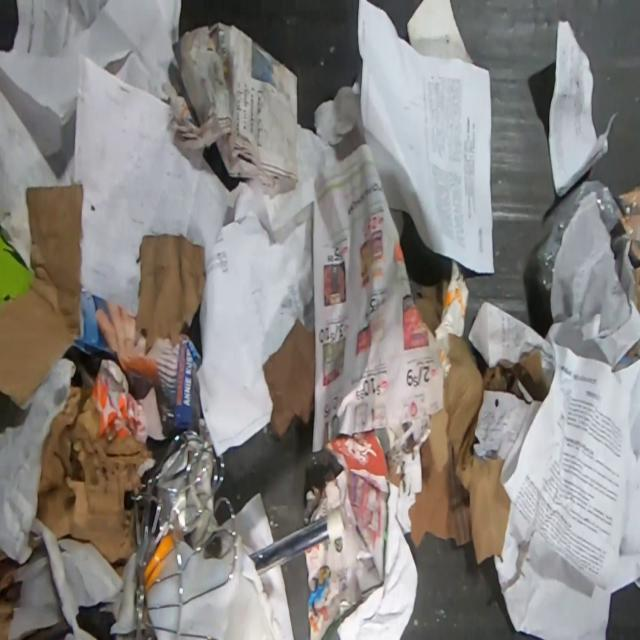cardboard: (407, 326, 547, 564), (35, 386, 154, 578), (0, 184, 84, 408), (0, 543, 26, 639)
metal: (128, 430, 238, 640), (249, 507, 348, 575)
soft_plastic: (537, 178, 640, 358)
